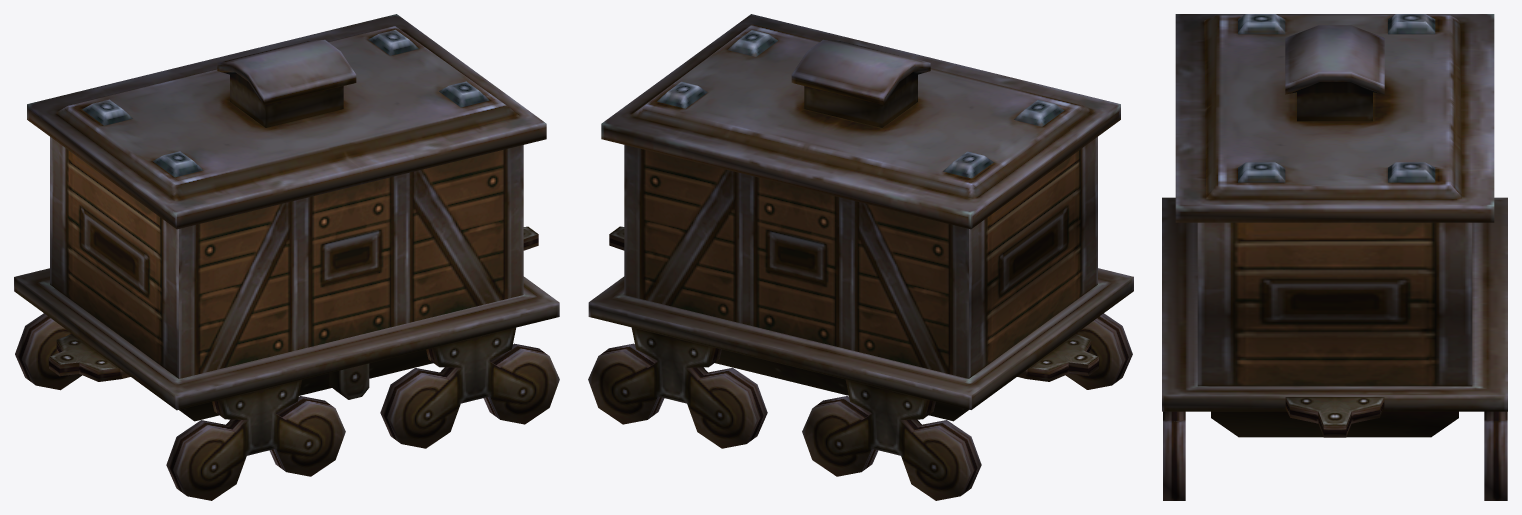
File: train_04.fbx
3 views of the same model, side by side, from view 1: azimuth 30°, elevation 25°; view 2: azimuth 150°, elevation 25°; view 3: azimuth 270°, elevation 25° (orthographic). The views are drawn at different scales.
Visible parts, largest first — view 1: Object029; view 2: Object029; view 3: Object029.
Boxes of the visible parts, x1,y1,x2,y2 form: Object029: (14, 14, 559, 500); Object029: (588, 14, 1133, 500); Object029: (1162, 14, 1507, 500).
Size of the model in its own units: 751 by 520 by 442.
Materials: 1 (1 with a texture image).
